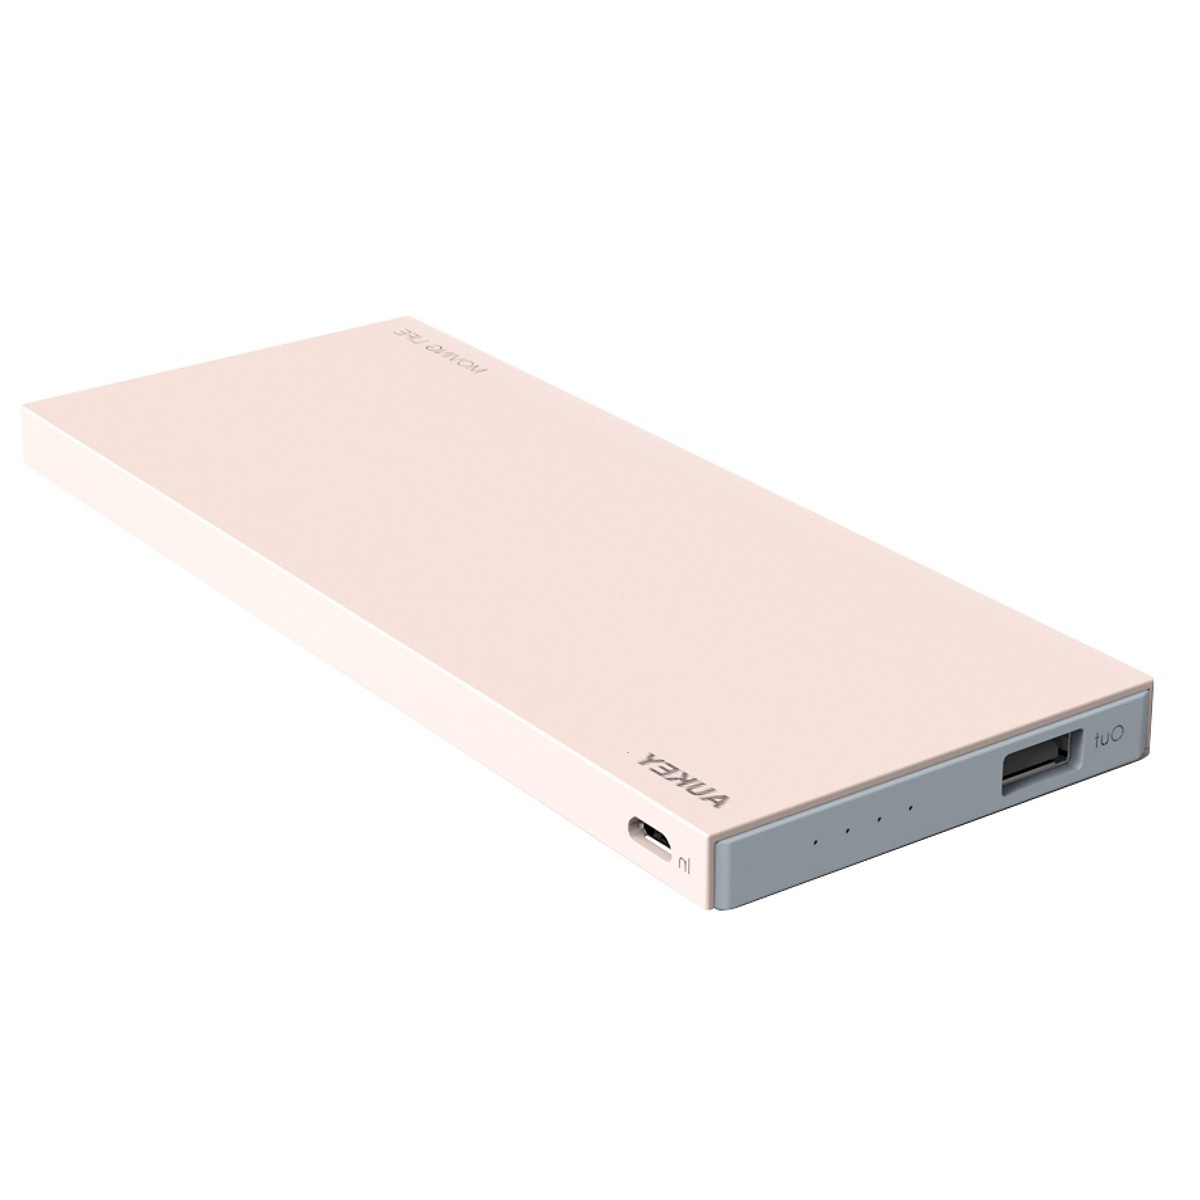Aukey: (574, 705, 814, 840)
